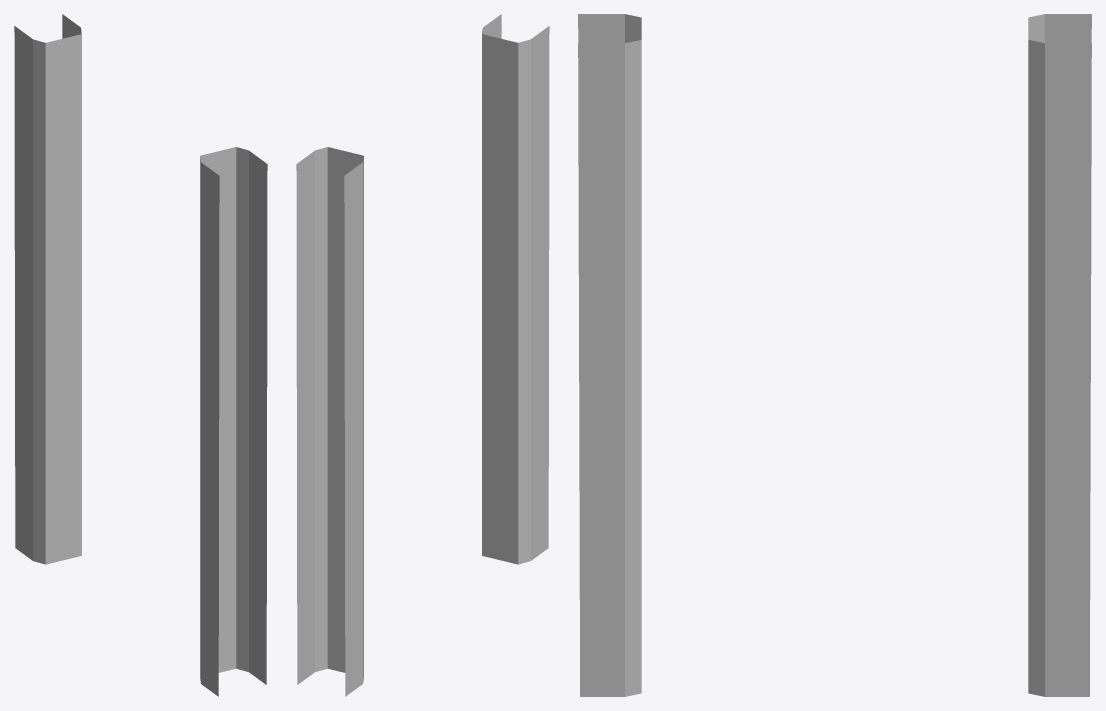
Rendered from SM_DoorOpen.fbx.
3 renders of one model, left to right at view 1: azimuth 30°, elevation 25°; view 2: azimuth 150°, elevation 25°; view 3: azimuth 270°, elevation 25°, orthographic. The views are drawn at different scales.
Visible parts, largest first — view 1: Cube.013; view 2: Cube.013; view 3: Cube.013.
Boxes of the visible parts, box(x1,y1,x2,y2) form: Cube.013: box(14, 14, 267, 696); Cube.013: box(296, 14, 549, 696); Cube.013: box(578, 14, 1091, 696).
Bounding box in the file's own units: 116 × 15.68 × 163.
